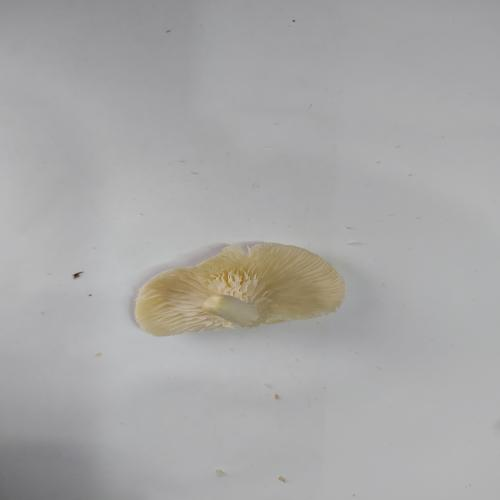Oyster Mushroom: (134, 241, 346, 337)
